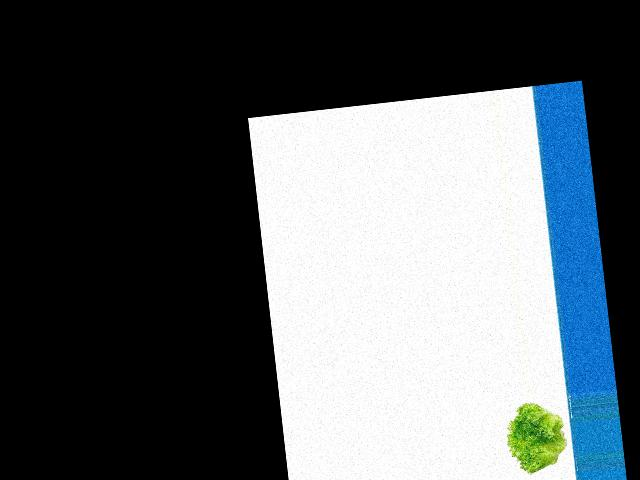lettuce: (501, 398, 573, 474)
